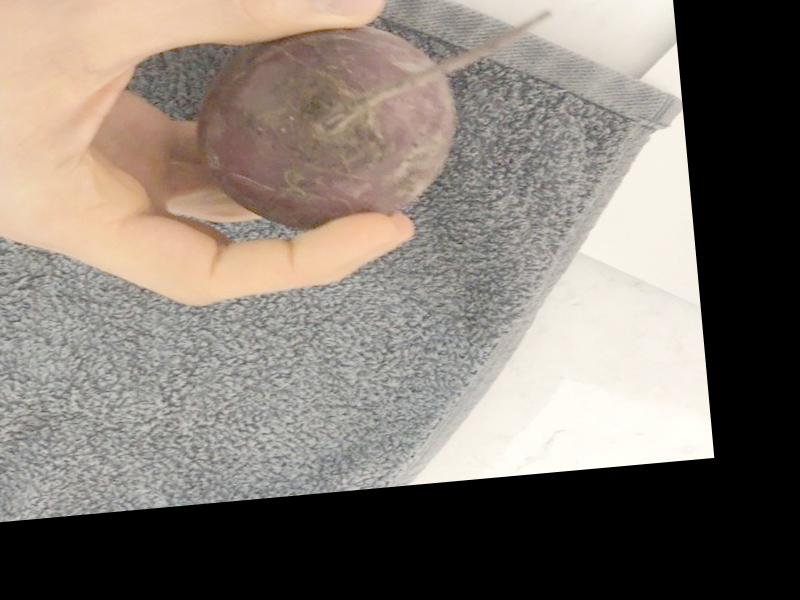Beet: (190, 7, 570, 238)
